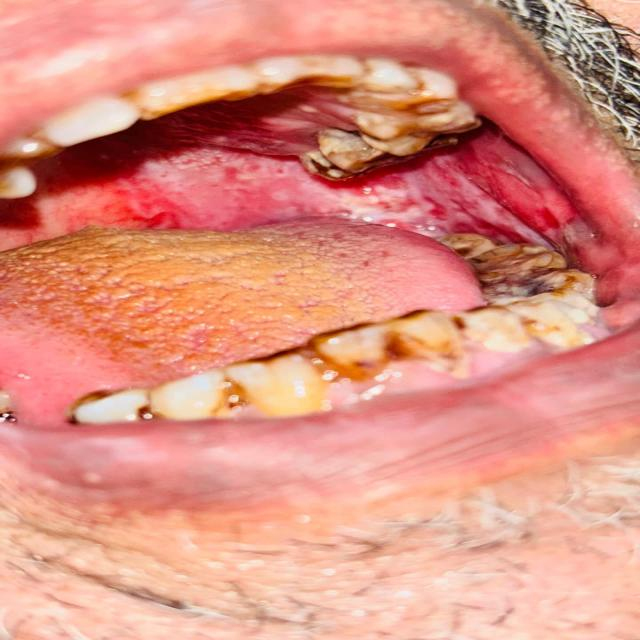cancer-detection: (152, 121, 621, 269)
processing_area: (0, 62, 639, 424)
